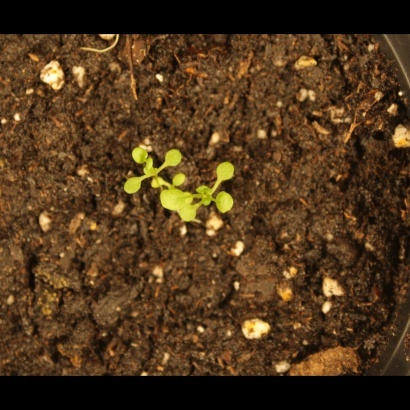leaf: (117, 172, 145, 203), (212, 153, 239, 184), (122, 136, 150, 164), (216, 188, 242, 216), (160, 183, 185, 211), (162, 146, 189, 170), (172, 167, 195, 190), (146, 171, 169, 194), (141, 153, 164, 176), (177, 199, 200, 222), (197, 185, 220, 208)
